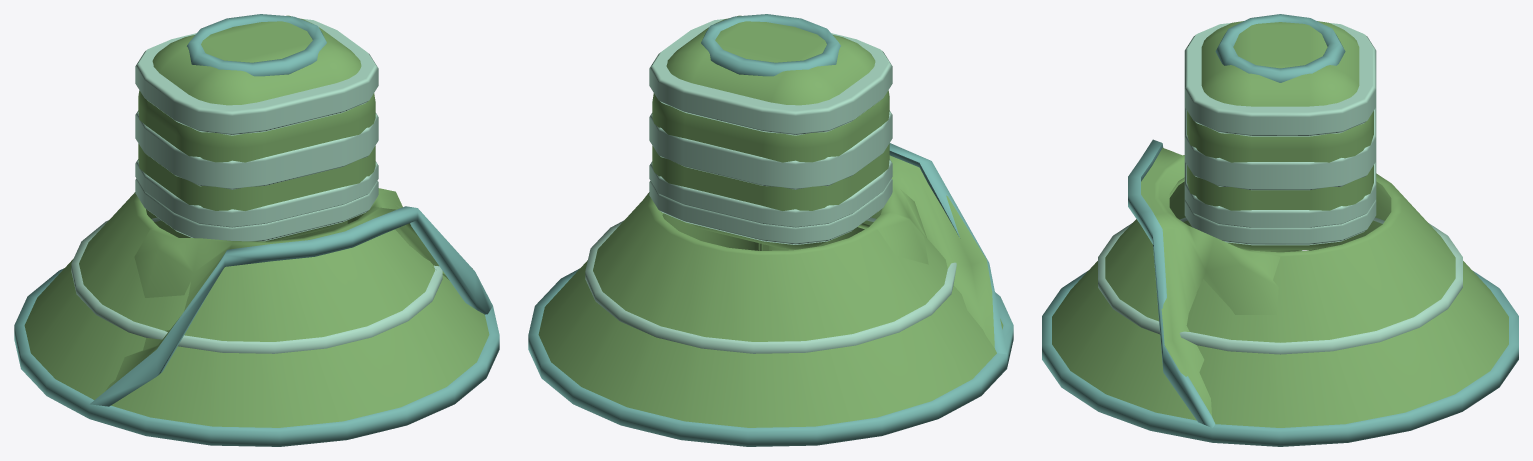
Rendered from caterpillar_costume.glb.
The picture shows the model from 3 angles, left to right: view 1: azimuth 30°, elevation 25°; view 2: azimuth 150°, elevation 25°; view 3: azimuth 270°, elevation 25°; orthographic projection.
Visible parts, largest first — view 1: caterpillar_costume_Body, caterpillar_costume_Body_sit; view 2: caterpillar_costume_Body, caterpillar_costume_Body_sit, caterpillar_costume_LegR_sit; view 3: caterpillar_costume_Body, caterpillar_costume_Body_sit.
Part boxes in pixels (<box>): caterpillar_costume_Body: <box>14,14,499,446</box>; caterpillar_costume_Body_sit: <box>90,18,492,406</box>; caterpillar_costume_Body: <box>528,14,1013,446</box>; caterpillar_costume_Body_sit: <box>645,18,1006,354</box>; caterpillar_costume_LegR_sit: <box>661,212,762,250</box>; caterpillar_costume_Body: <box>1042,14,1518,446</box>; caterpillar_costume_Body_sit: <box>1128,23,1388,427</box>.
Bounding box in the file's own units: 0.748 × 0.5289 × 0.7404.
